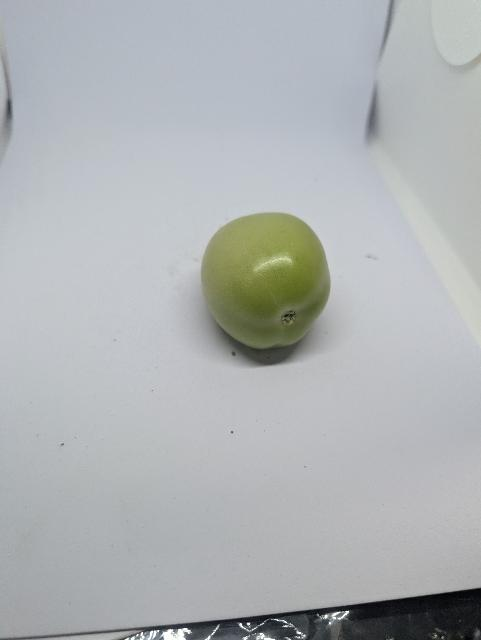green: (200, 210, 333, 352)
